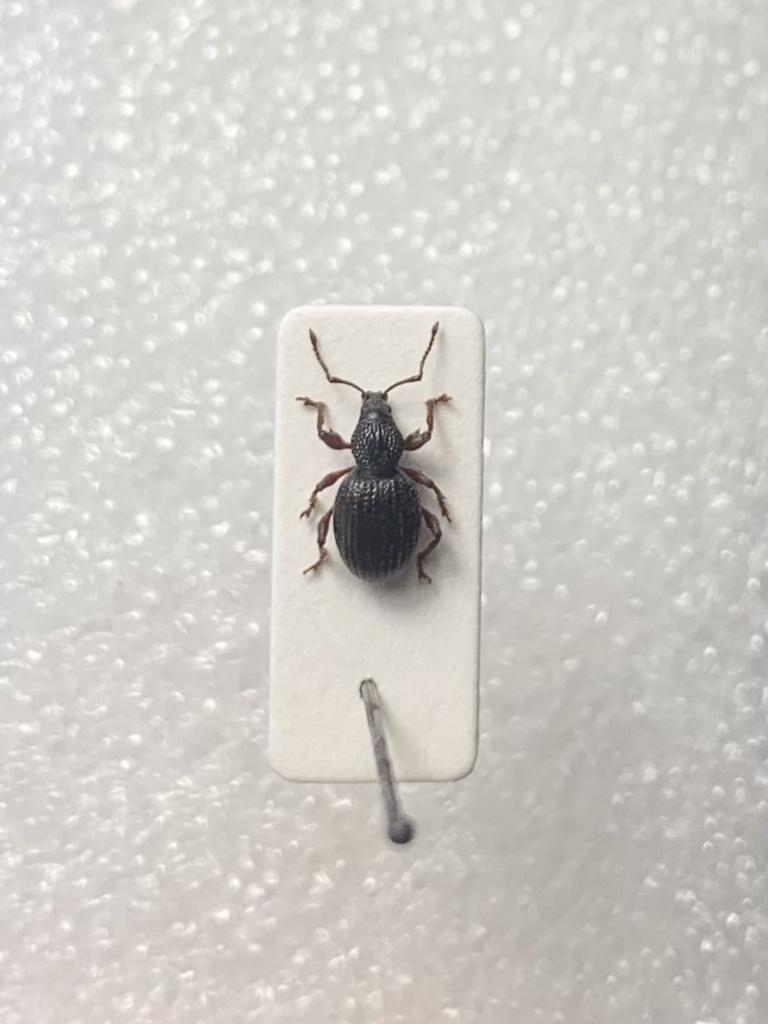weevils: (256, 289, 490, 644)
